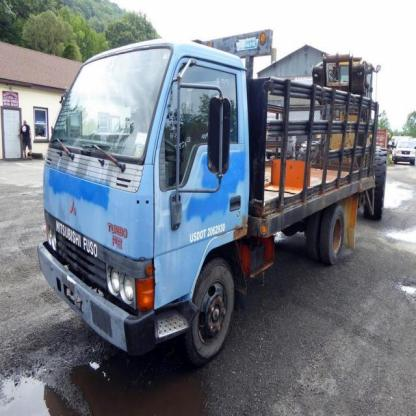truck: (36, 35, 377, 364)
